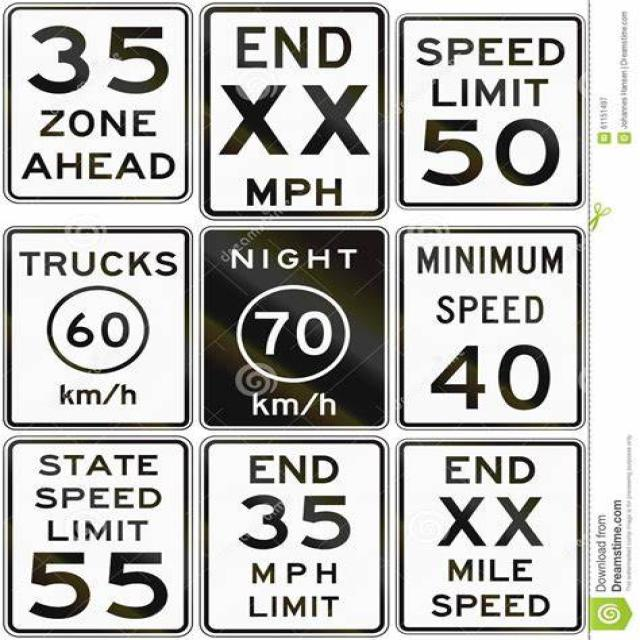speedLimit50: (400, 17, 574, 225)
